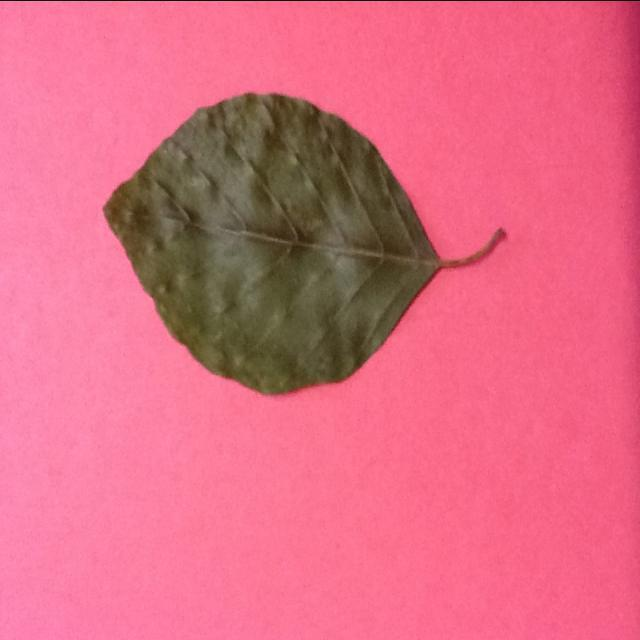foliage: (102, 90, 506, 398)
